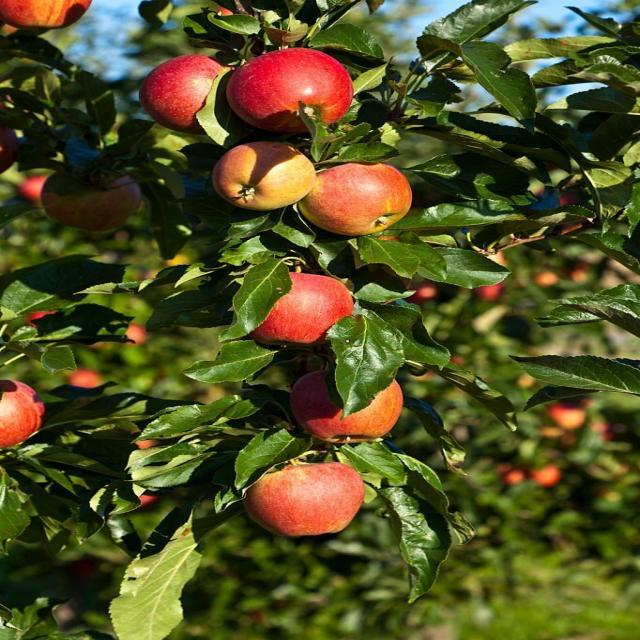Red Apple: (253, 449, 368, 535), (232, 50, 357, 125), (292, 368, 407, 436), (244, 269, 352, 340), (310, 161, 416, 229), (219, 140, 325, 208), (45, 170, 150, 230), (144, 54, 236, 121), (1, 1, 96, 39), (1, 371, 45, 448), (547, 404, 587, 430), (22, 172, 48, 202), (66, 368, 96, 390), (531, 467, 558, 487), (24, 304, 47, 326), (482, 281, 500, 305), (410, 285, 435, 301), (122, 324, 144, 342), (574, 264, 588, 290), (538, 268, 557, 286), (505, 467, 523, 485)
